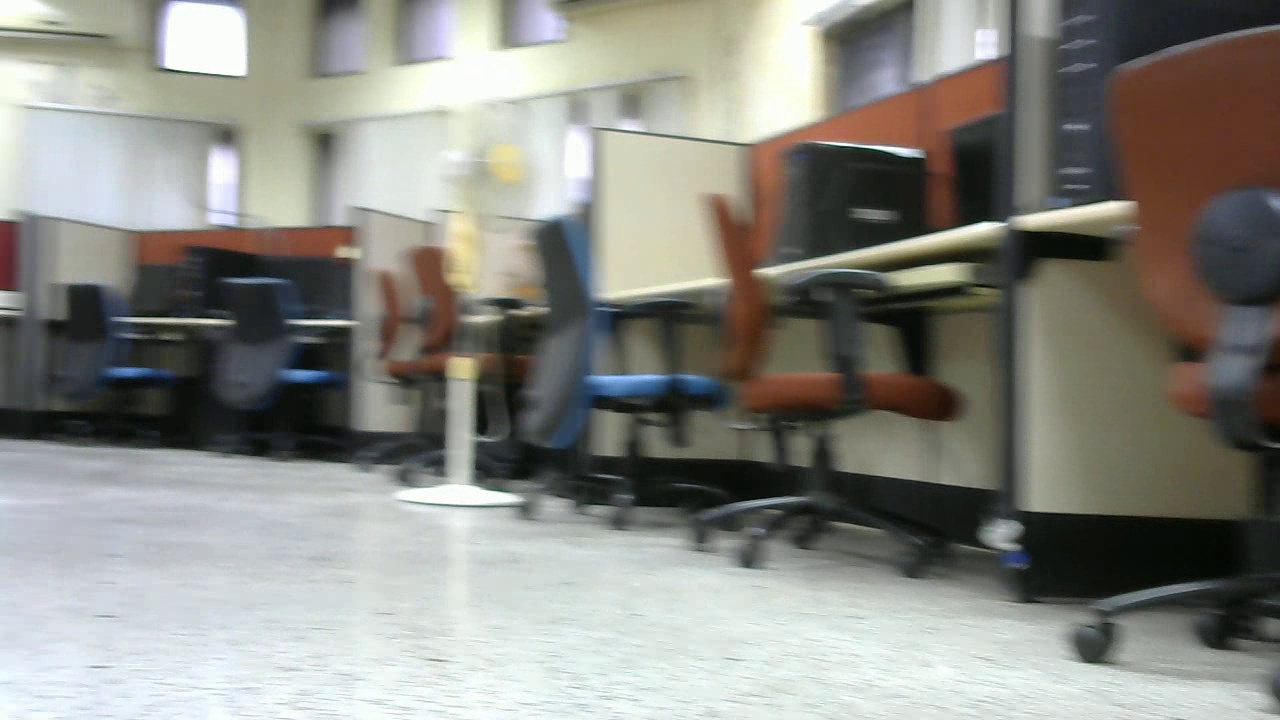chair: (686, 195, 967, 580), (520, 221, 727, 520), (359, 247, 541, 481), (207, 271, 359, 473), (50, 276, 203, 445)
